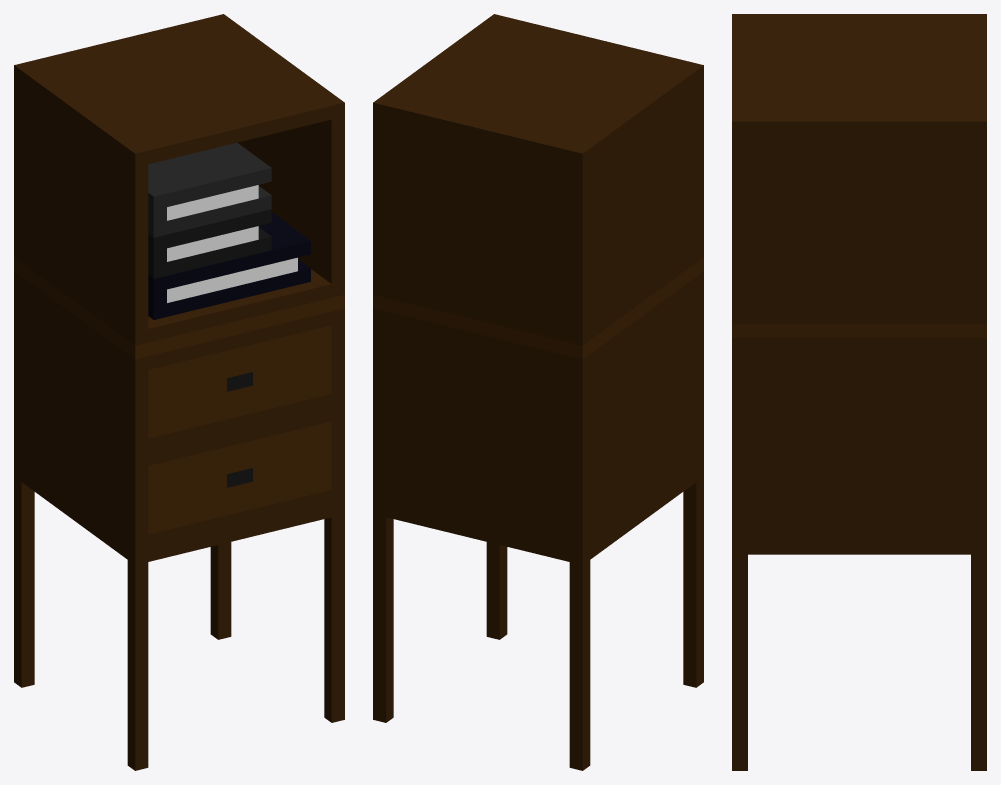
The model's file is nightstand.obj.
3 views of the same model, side by side, from view 1: azimuth 30°, elevation 25°; view 2: azimuth 150°, elevation 25°; view 3: azimuth 270°, elevation 25° (orthographic). The views are drawn at different scales.
Bounding box in the file's own units: 1.6 × 4.5 × 1.6.
1 material, 1 textured.
